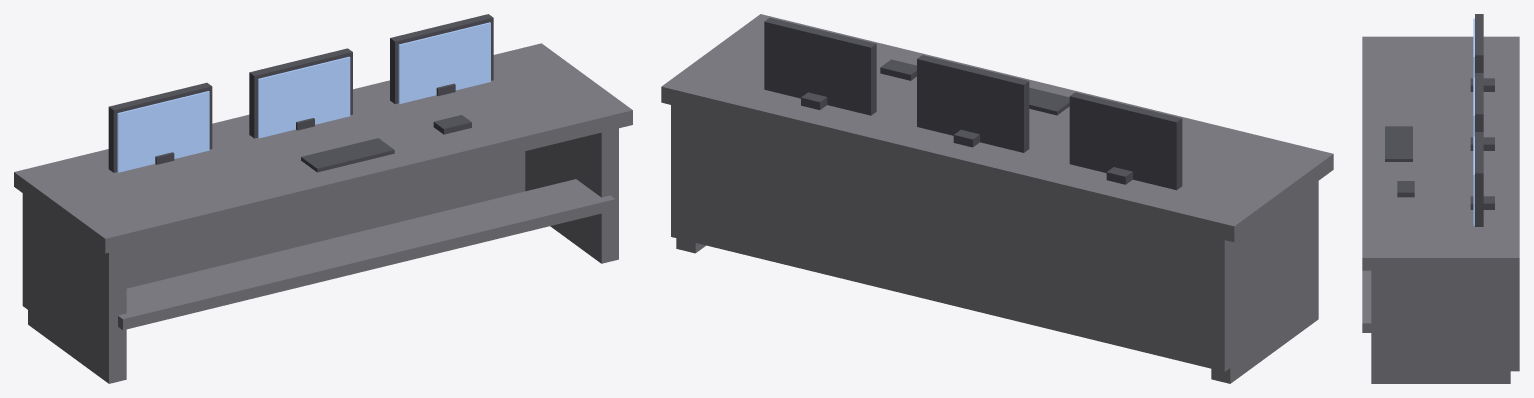
File: casino-floor-and-back-rooms-surveillance-desk-316ab77d__27066.glb
The picture shows the model from 3 angles, left to right: view 1: azimuth 30°, elevation 25°; view 2: azimuth 150°, elevation 25°; view 3: azimuth 270°, elevation 25°; orthographic projection. The views are drawn at different scales.
Visible parts, largest first — view 1: surveillance-desk; view 2: surveillance-desk; view 3: surveillance-desk.
Part boxes in pixels (<box>): surveillance-desk: <box>14,14,632,383</box>; surveillance-desk: <box>661,14,1333,383</box>; surveillance-desk: <box>1362,14,1519,383</box>.
Bounding box in the file's own units: 3 × 1.16 × 0.8999.
